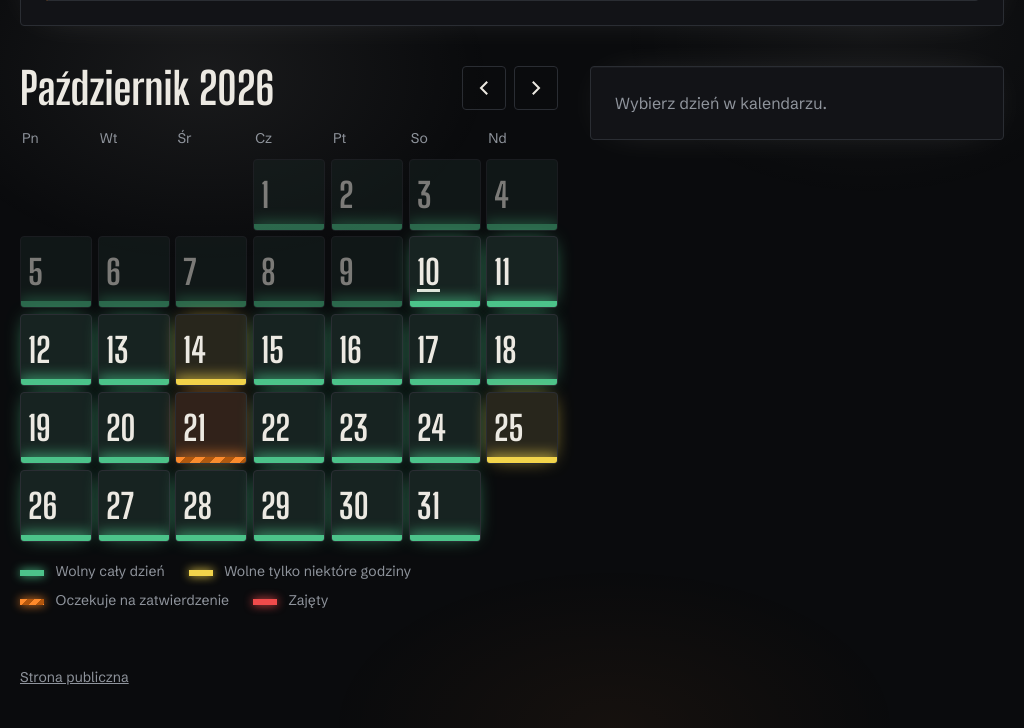
Test: panel admina › Zaakceptuj: zmienia status na accepted i wysyła e-mail
The width and height of the screenshot is (1024, 728).
(page scrolled)
Click the button "21": (211, 428) x1=175 y1=392 x2=247 y2=464
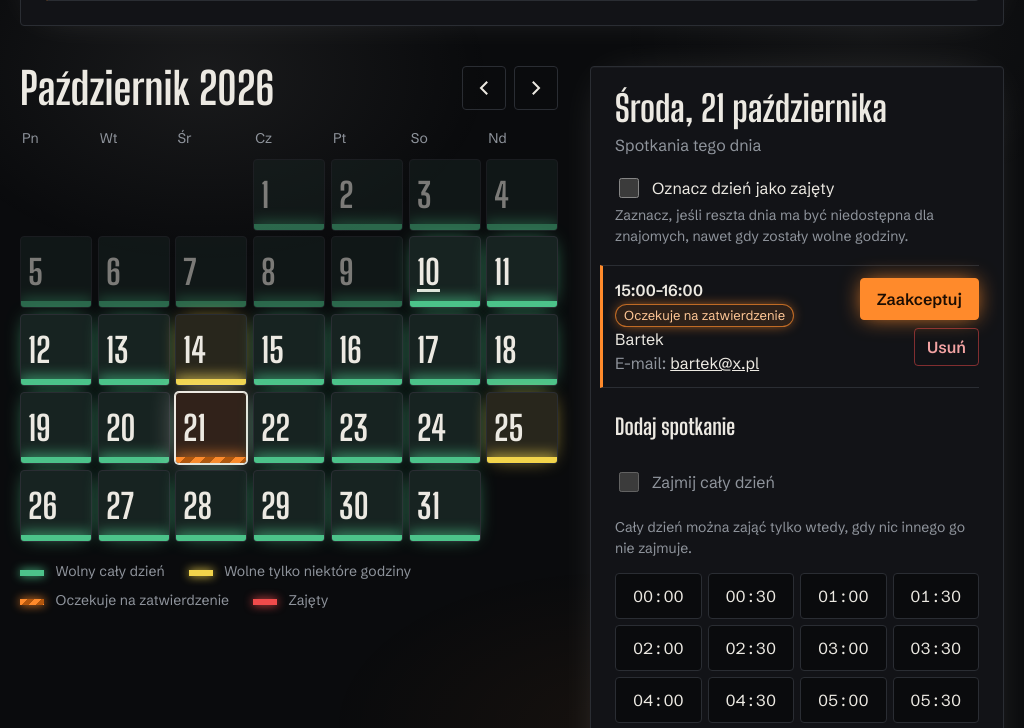
Expected: the text "Oczekuje na zatwierdzenie" is shown, x1=615 y1=304 x2=794 y2=327
Click the button "Zaakceptuj": (919, 299) x1=860 y1=278 x2=979 y2=320
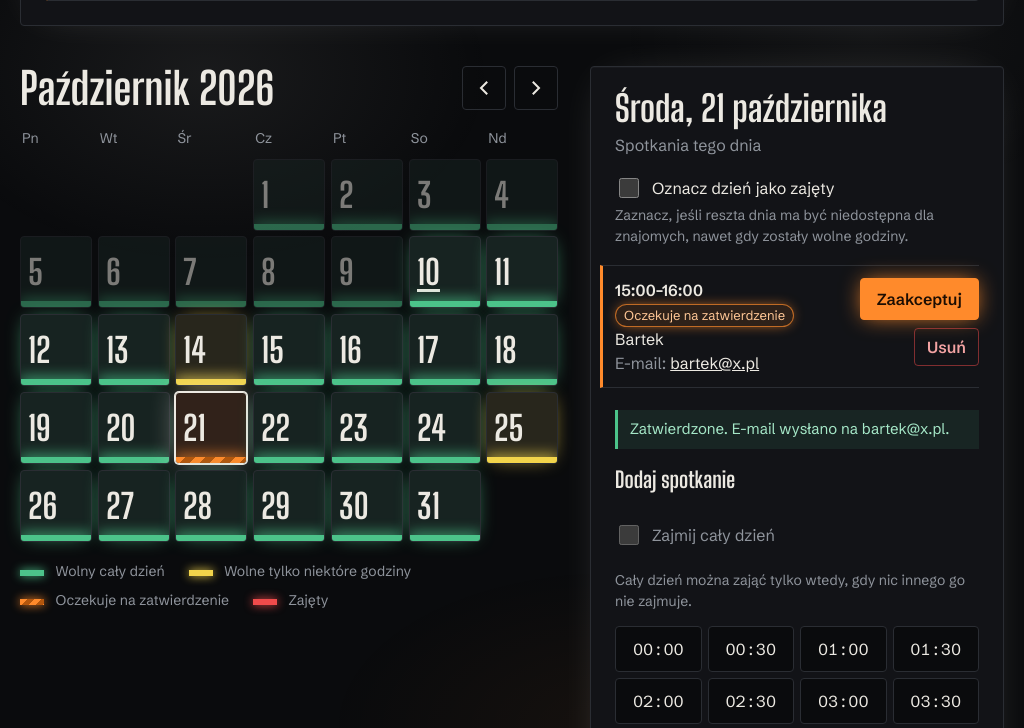
Expected: the text "Zatwierdzone. E-mail wysłano na bartek@x.pl." is shown, x1=615 y1=410 x2=979 y2=449
